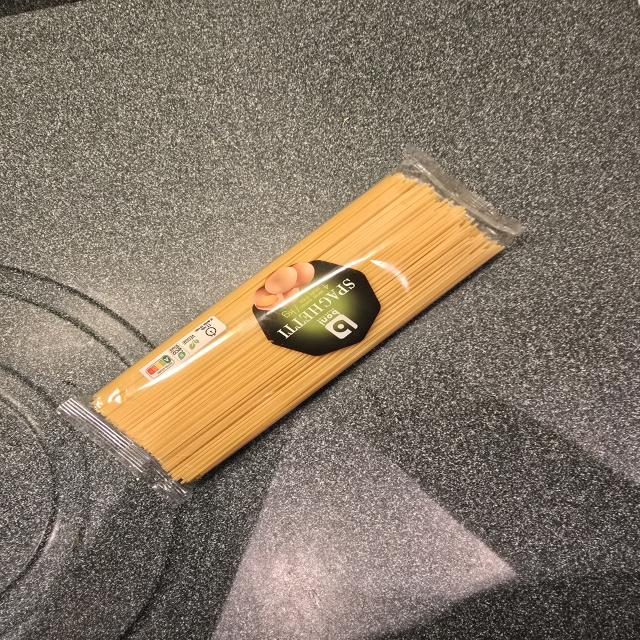Pasta: (58, 153, 522, 498)
